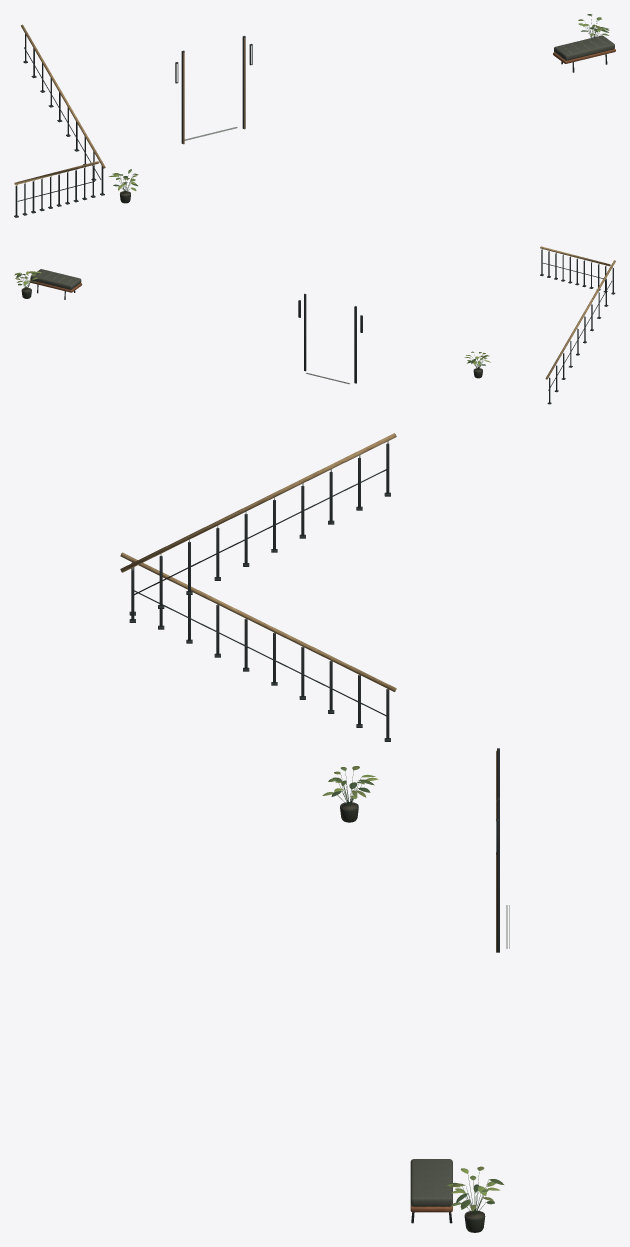
File: landing.glb
The picture shows the model from 3 angles, top to bottom: view 1: azimuth 30°, elevation 25°; view 2: azimuth 150°, elevation 25°; view 3: azimuth 270°, elevation 25°; orthographic projection. The views are drawn at different scales.
Visible parts, largest first — view 1: landing - M06 Blackened steel, landing - M08 Smoked linen, landing - M03 Pale ash, landing - M06 Patinated bronze; view 2: landing - M06 Blackened steel, landing - M08 Smoked linen, landing - M03 Pale ash; view 3: landing - M06 Blackened steel, landing - M03 Pale ash, landing - M08 Smoked linen.
Part boxes in pixels (x1=…): landing - M06 Blackened steel: x1=14, y1=34, x2=607, y2=217; landing - M08 Smoked linen: x1=554, y1=35, x2=614, y2=60; landing - M03 Pale ash: x1=14, y1=24, x2=105, y2=184; landing - M06 Patinated bronze: x1=183, y1=38, x2=245, y2=144; landing - M06 Blackened steel: x1=37, y1=249, x2=615, y2=404; landing - M08 Smoked linen: x1=30, y1=269, x2=81, y2=289; landing - M03 Pale ash: x1=540, y1=246, x2=615, y2=379; landing - M06 Blackened steel: x1=129, y1=443, x2=499, y2=1223; landing - M03 Pale ash: x1=120, y1=433, x2=396, y2=691; landing - M08 Smoked linen: x1=410, y1=1159, x2=452, y2=1206.
Size of the model in its own units: 17.91 by 5.21 by 5.86.
Materials: 16 (4 with a texture image).
